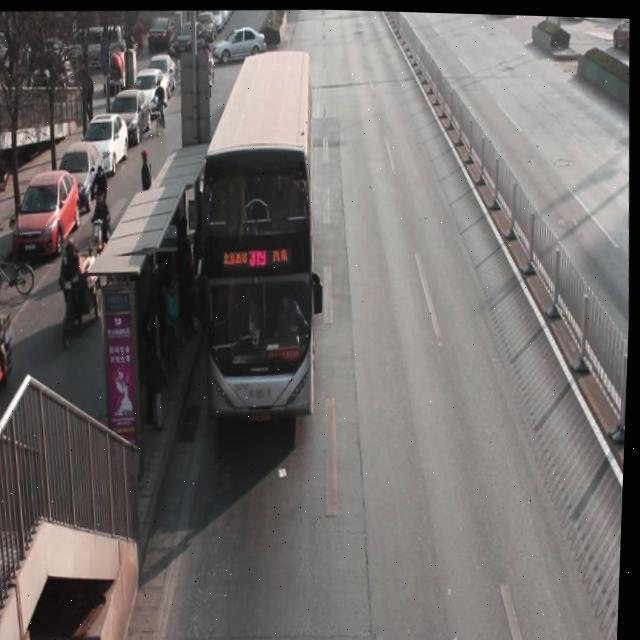van: (192, 49, 327, 419)
